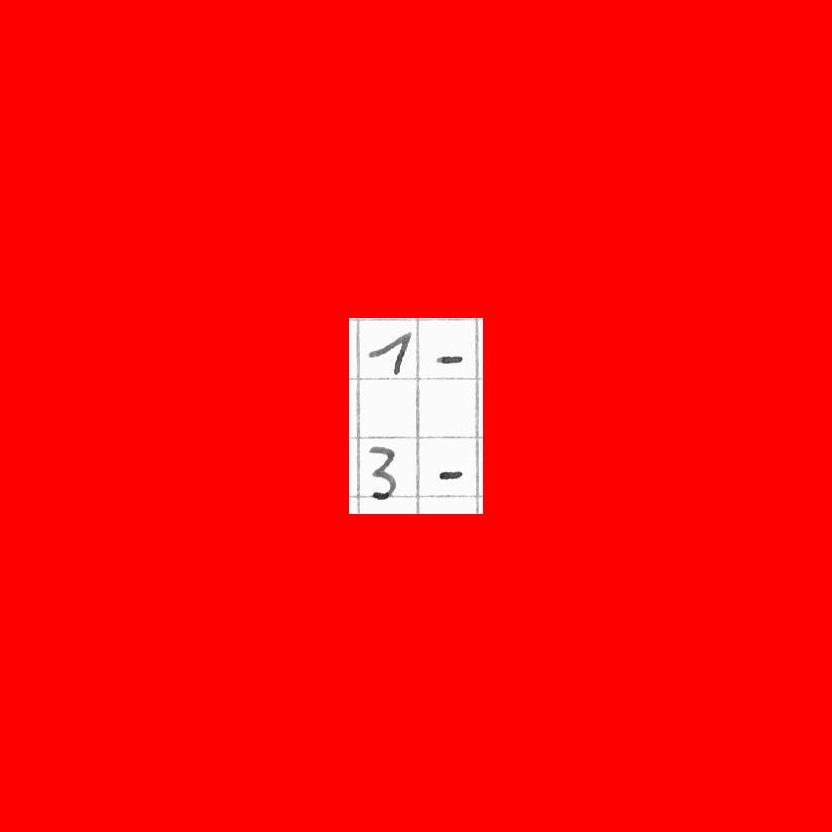Char: (364, 439, 402, 502), (365, 331, 416, 376), (431, 460, 468, 488), (431, 346, 462, 367)
